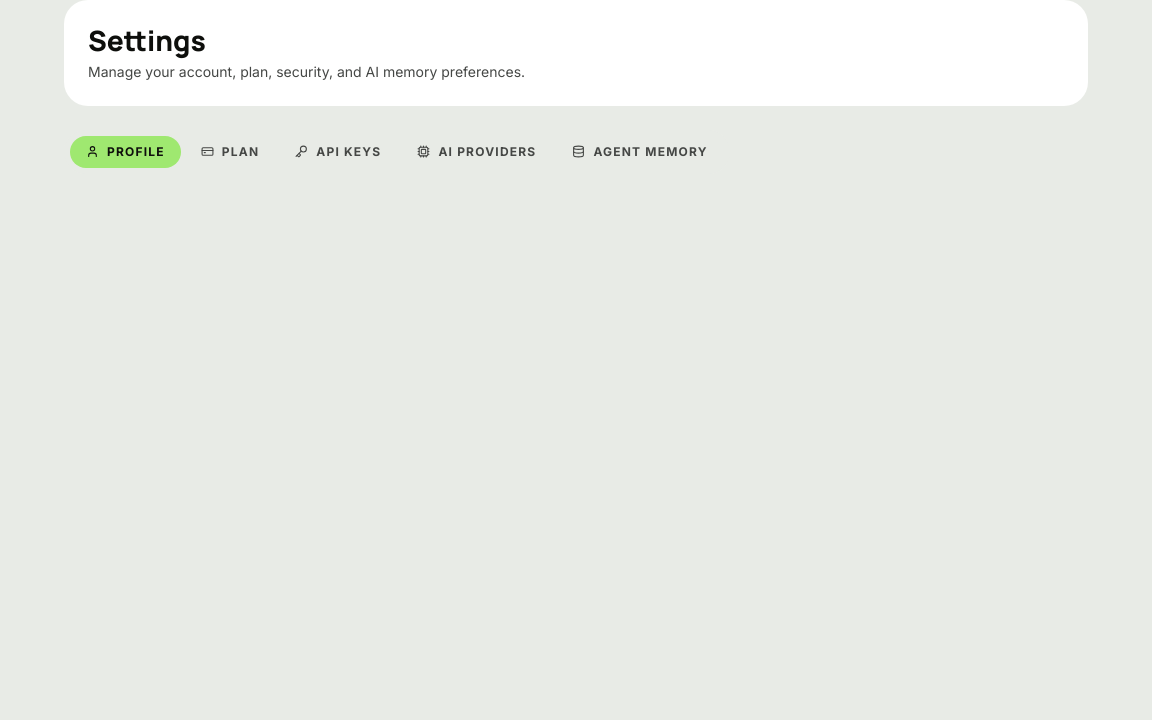
Test: SettingsPage — AI Providers tab › never renders the raw key the user types, before or after saving
This screenshot has width=1152, height=720.
Click the button "AI Providers" at {"x": 477, "y": 152}, box [401,136,552,168]
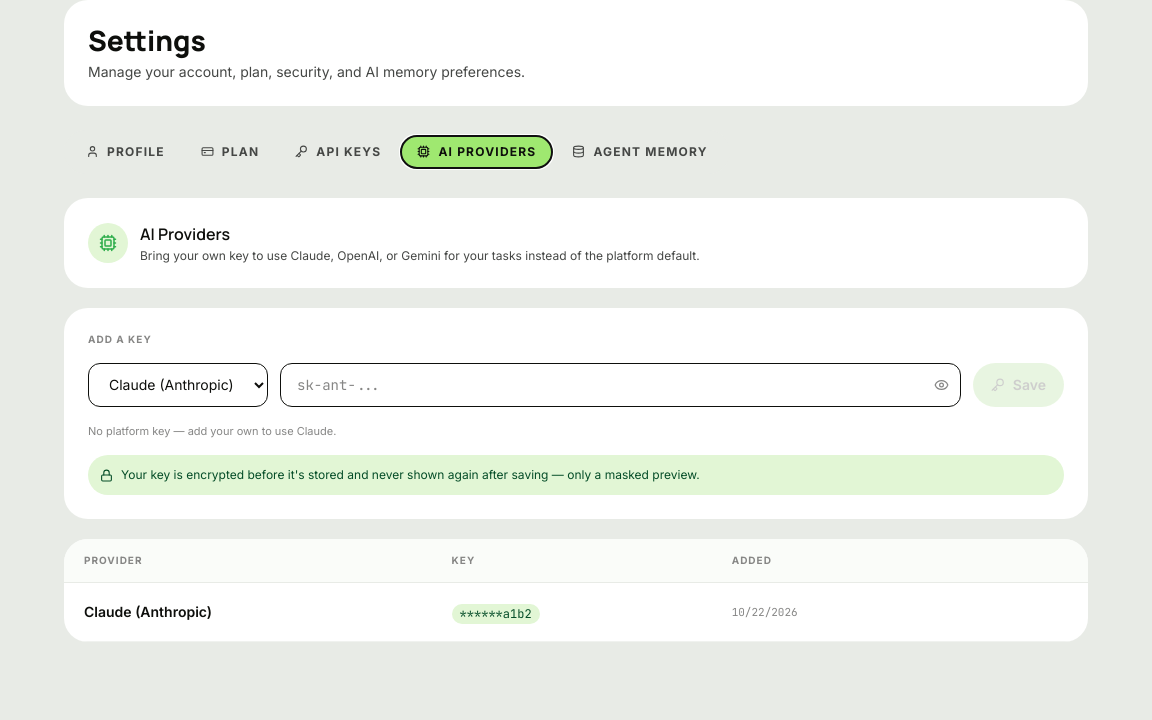
Type "sk-ant-super-secret-value-123" into the password field with placeholder "sk-ant-..." at {"x": 620, "y": 385}, box [280,363,961,407]
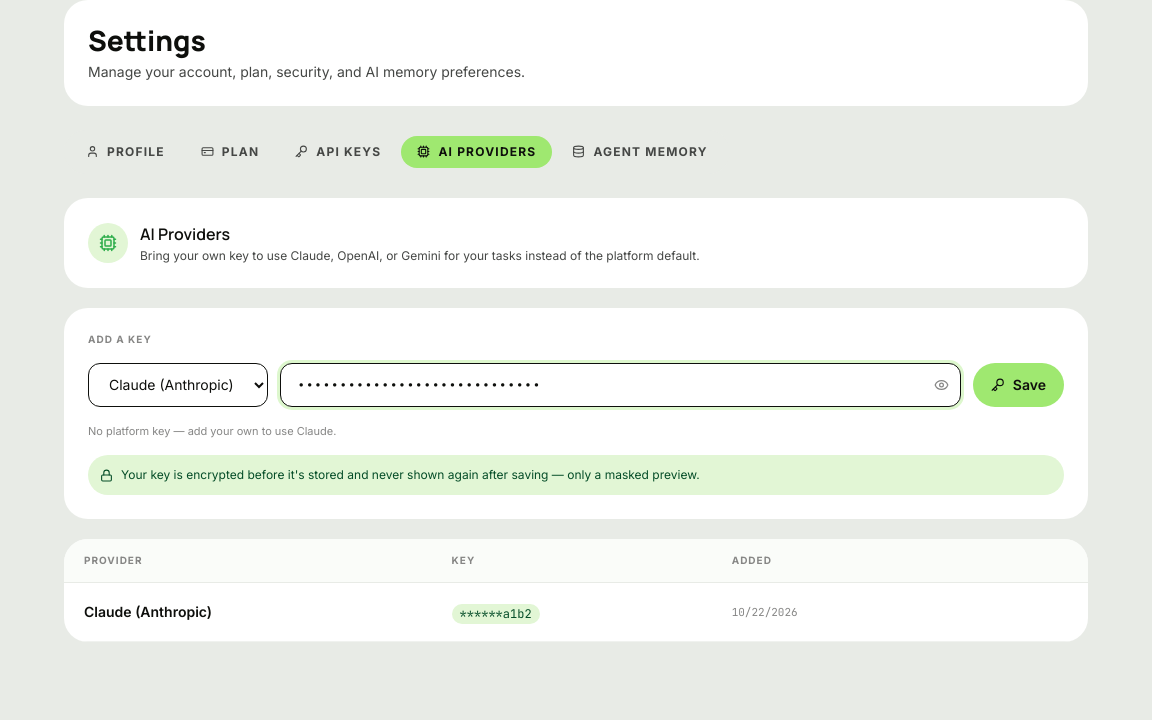
Click the button "Save" at {"x": 1018, "y": 385}, box [973,363,1064,407]
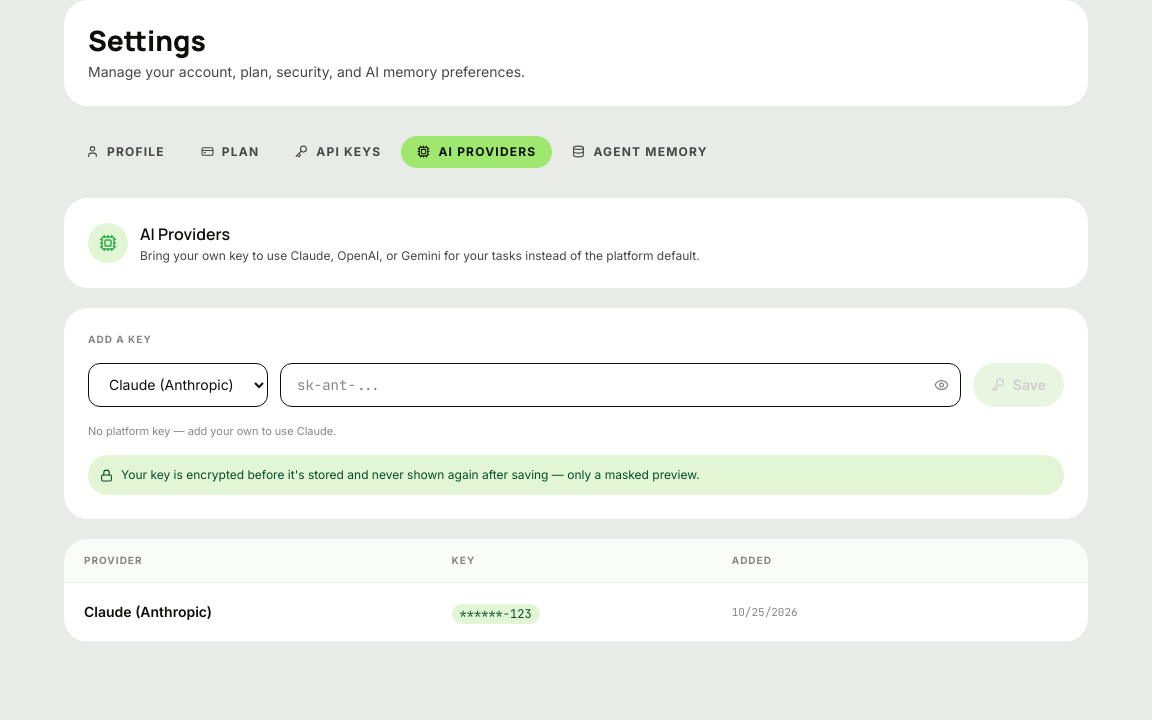
Expected: the text "******-123" is shown, [452,604,540,624]
